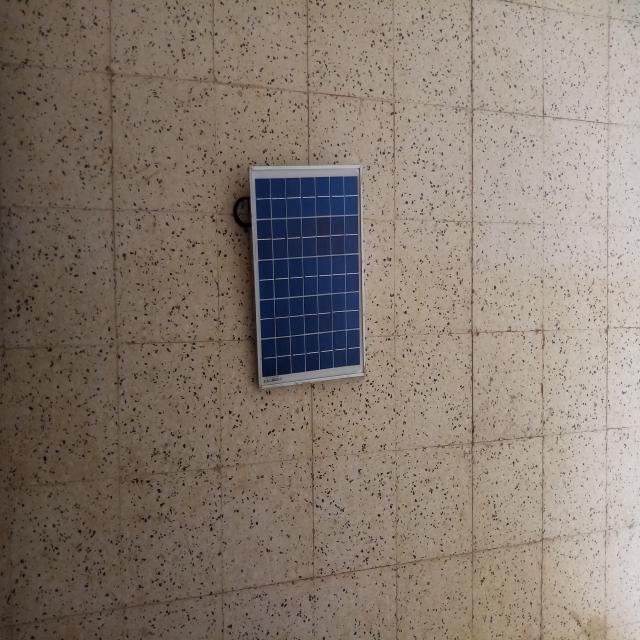Normal Solar Panel: (249, 166, 367, 388)
